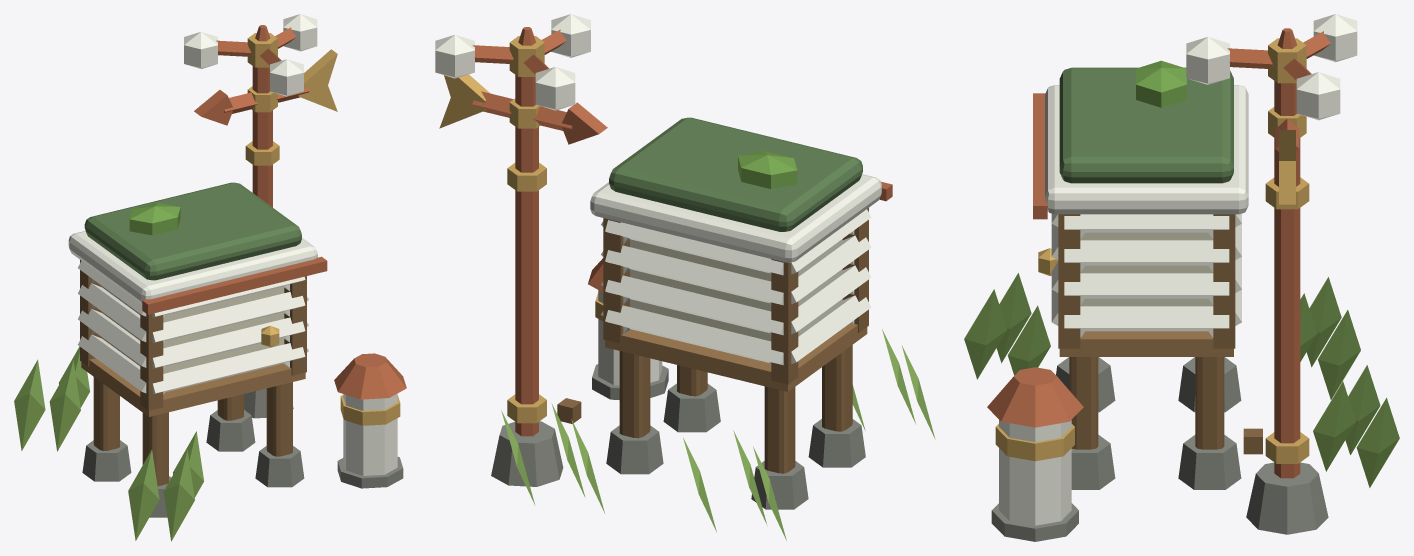
File: weather_station.glb
3 renders of one model, left to right at view 1: azimuth 30°, elevation 25°; view 2: azimuth 150°, elevation 25°; view 3: azimuth 270°, elevation 25°, orthographic. The views are drawn at different scales.
Visible parts, largest first — view 1: Station_moss_lid, Station_ceramic_lid, move_spin_anemometer, Station_floor_board, Gauge_ceramic_body, Station_copper_lid_rim, Station_linen_core, Station_ceramic_louvre.008, Station_ceramic_louvre, Station_ceramic_louvre.004, Gauge_copper_funnel, Station_copper_mast (+30 smaller); view 2: Station_moss_lid, Station_ceramic_lid, Station_copper_mast, move_spin_anemometer, Station_floor_board, Station_linen_core, Station_ceramic_louvre.010, Station_ceramic_louvre.006, Station_ceramic_louvre.002, Station_mast_foot, Station_ceramic_louvre.014, Station_timber_leg.001 (+23 smaller); view 3: Station_moss_lid, Station_ceramic_lid, move_spin_anemometer, Station_copper_mast, Gauge_ceramic_body, Station_mast_foot, Gauge_copper_funnel, Station_ceramic_louvre.007, Station_ceramic_louvre.011, Station_ceramic_louvre.003, Station_floor_board, Station_linen_core (+27 smaller).
Boxes of the visible parts, bbox=[...] form: Station_moss_lid: bbox=[84, 182, 301, 280]; Station_ceramic_lid: bbox=[68, 231, 317, 304]; move_spin_anemometer: bbox=[184, 14, 317, 96]; Station_floor_board: bbox=[81, 358, 305, 416]; Gauge_ceramic_body: bbox=[343, 393, 397, 475]; Station_copper_lid_rim: bbox=[142, 256, 327, 314]; Station_linen_core: bbox=[102, 286, 284, 373]; Station_ceramic_louvre.008: bbox=[152, 292, 305, 342]; Station_ceramic_louvre: bbox=[152, 343, 305, 393]; Station_ceramic_louvre.004: bbox=[152, 317, 305, 368]; Gauge_copper_funnel: bbox=[334, 353, 406, 399]; Station_copper_mast: bbox=[252, 66, 272, 207]; Station_moss_lid: bbox=[609, 117, 862, 231]; Station_ceramic_lid: bbox=[590, 174, 881, 262]; Station_copper_mast: bbox=[515, 75, 538, 436]; move_spin_anemometer: bbox=[435, 14, 590, 110]; Station_floor_board: bbox=[605, 323, 867, 391]; Station_linen_core: bbox=[630, 239, 842, 341]; Station_ceramic_louvre.010: bbox=[605, 245, 783, 305]; Station_ceramic_louvre.006: bbox=[605, 275, 783, 335]; Station_ceramic_louvre.002: bbox=[605, 305, 783, 365]; Station_mast_foot: bbox=[491, 421, 563, 486]; Station_ceramic_louvre.014: bbox=[605, 220, 783, 275]; Station_timber_leg.001: bbox=[764, 386, 795, 473]; Station_moss_lid: bbox=[1059, 67, 1233, 183]; Station_ceramic_lid: bbox=[1045, 85, 1248, 214]; move_spin_anemometer: bbox=[1186, 14, 1357, 120]; Station_copper_mast: bbox=[1274, 81, 1300, 478]; Gauge_ceramic_body: bbox=[999, 420, 1071, 525]; Station_mast_foot: bbox=[1246, 462, 1328, 534]; Gauge_copper_funnel: bbox=[987, 367, 1083, 427]; Station_ceramic_louvre.007: bbox=[1064, 273, 1229, 298]; Station_ceramic_louvre.011: bbox=[1064, 240, 1229, 265]; Station_ceramic_louvre.003: bbox=[1064, 306, 1229, 331]; Station_floor_board: bbox=[1059, 331, 1233, 356]; Station_linen_core: bbox=[1080, 232, 1213, 306].
Size of the model in its own units: 0.95 by 1.11 by 0.8994.
